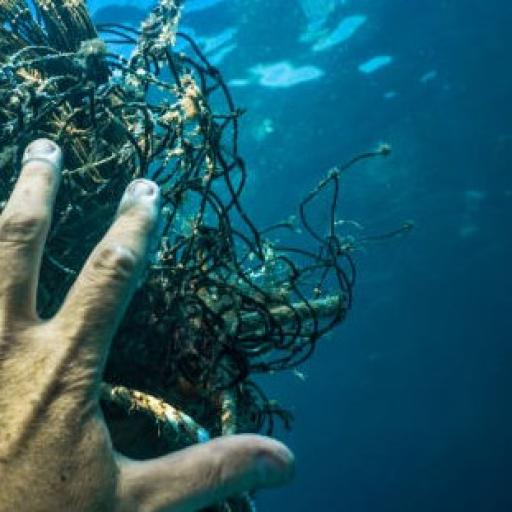net: (0, 0, 412, 512)
